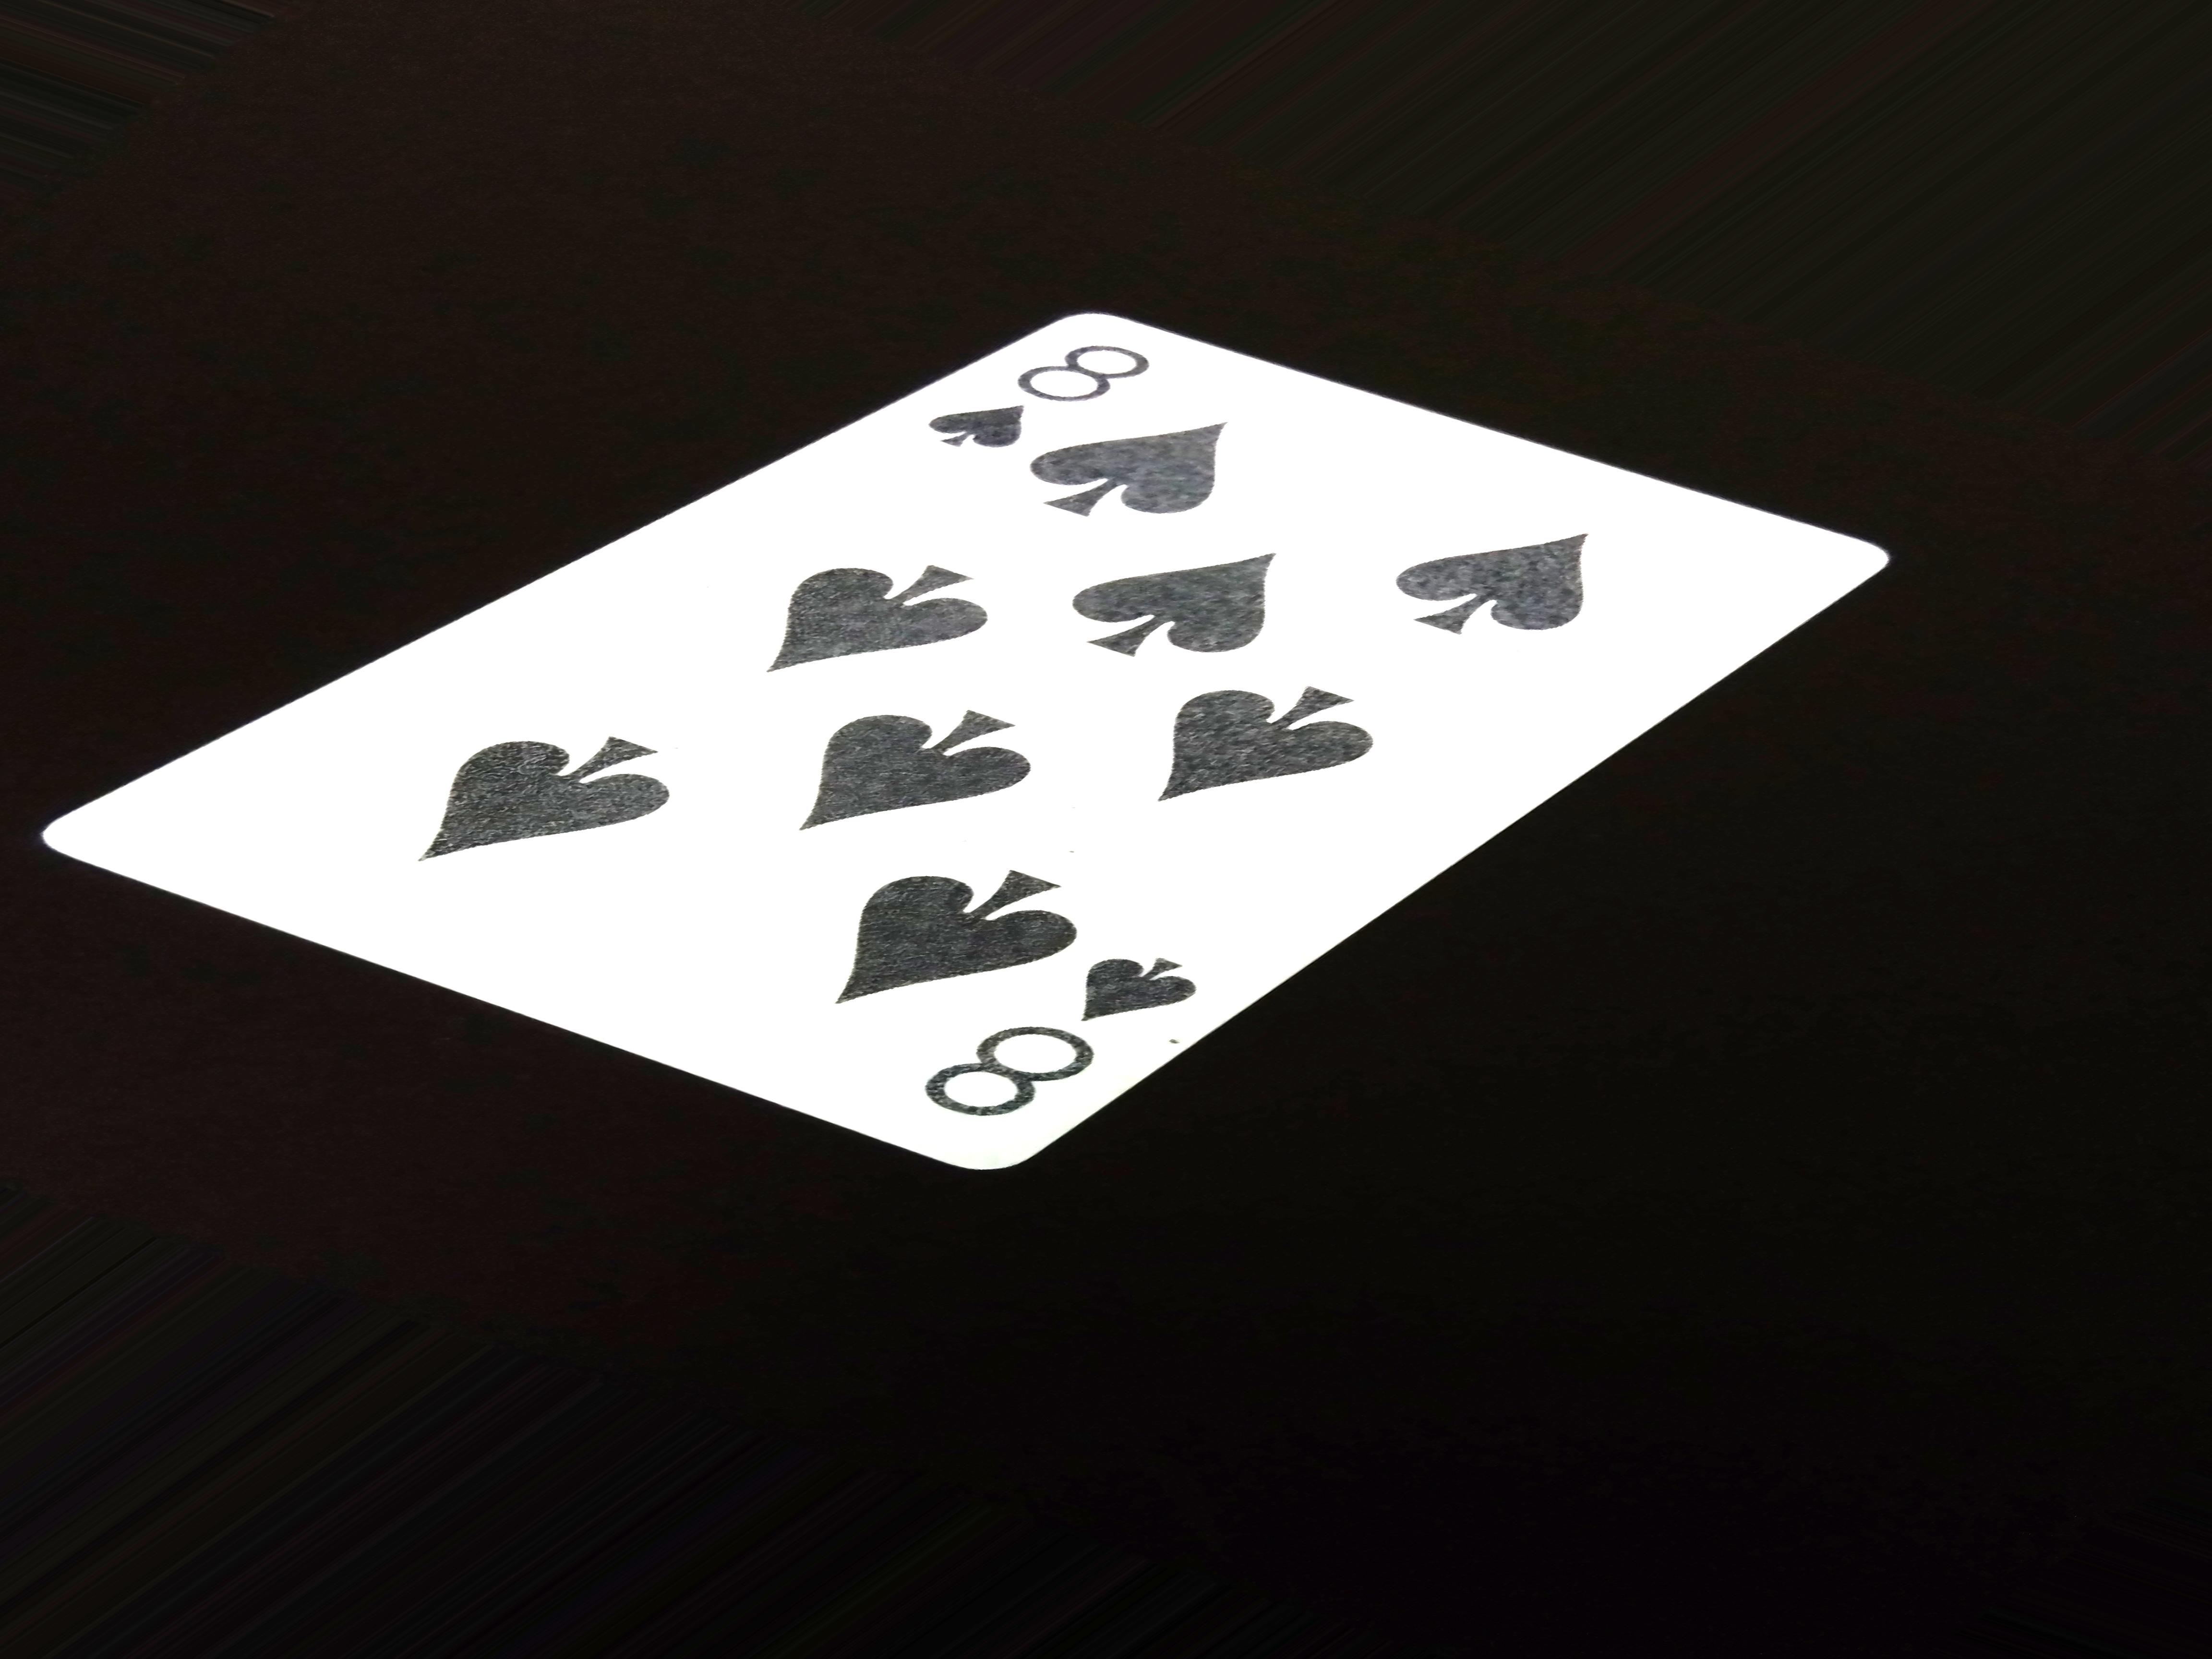8S: (921, 322, 1146, 483)
